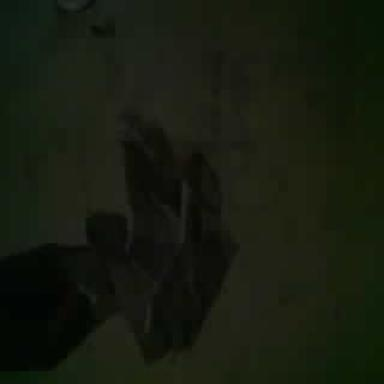paper: (88, 110, 238, 362)
